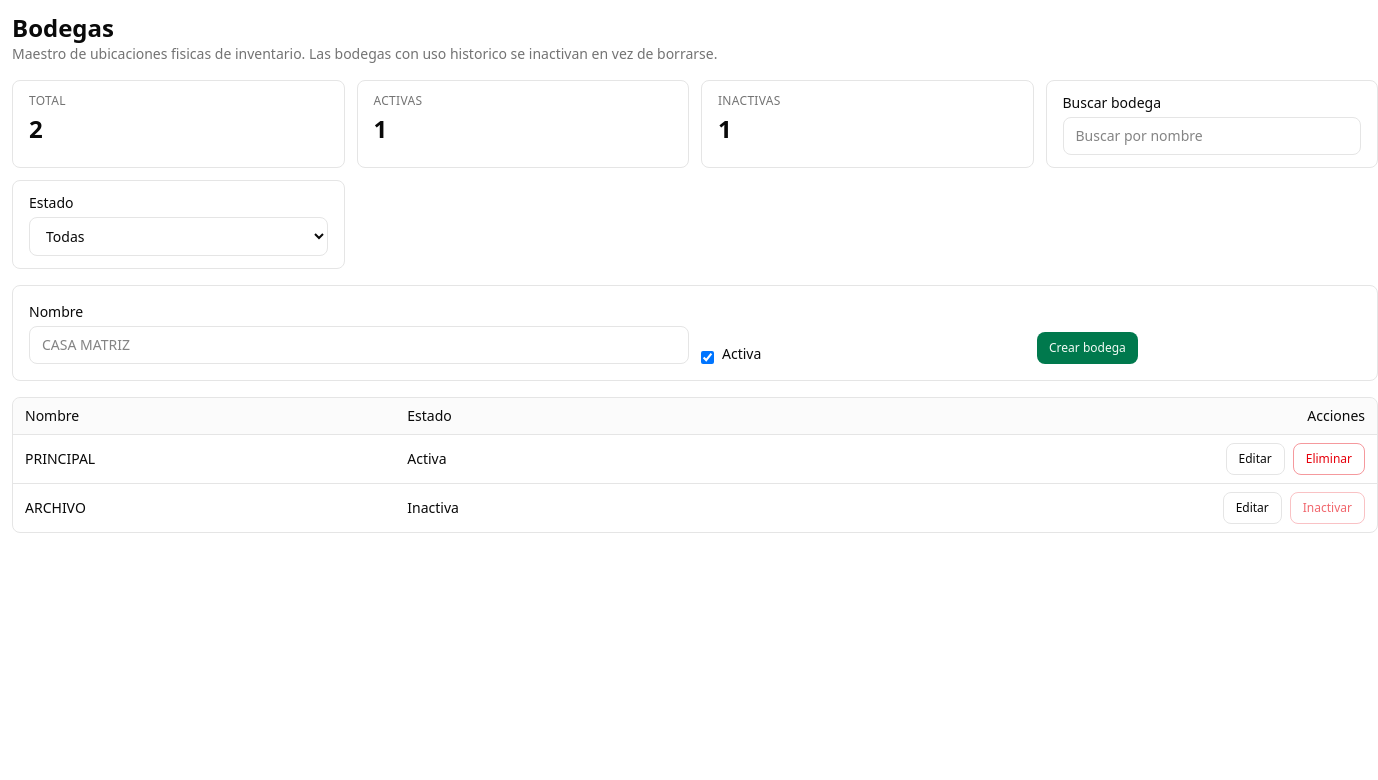
Scenario: inventario/InventarioBodegasPage › filtra bodegas por estado
The image size is (1378, 780).
Expected: the text "PRINCIPAL" is shown, [13,434,395,484]
Expected: the text "ARCHIVO" is shown, [13,484,395,532]
Select "Inactivas" in the dropdown labelled "Estado": (178, 236) [29,217,328,256]
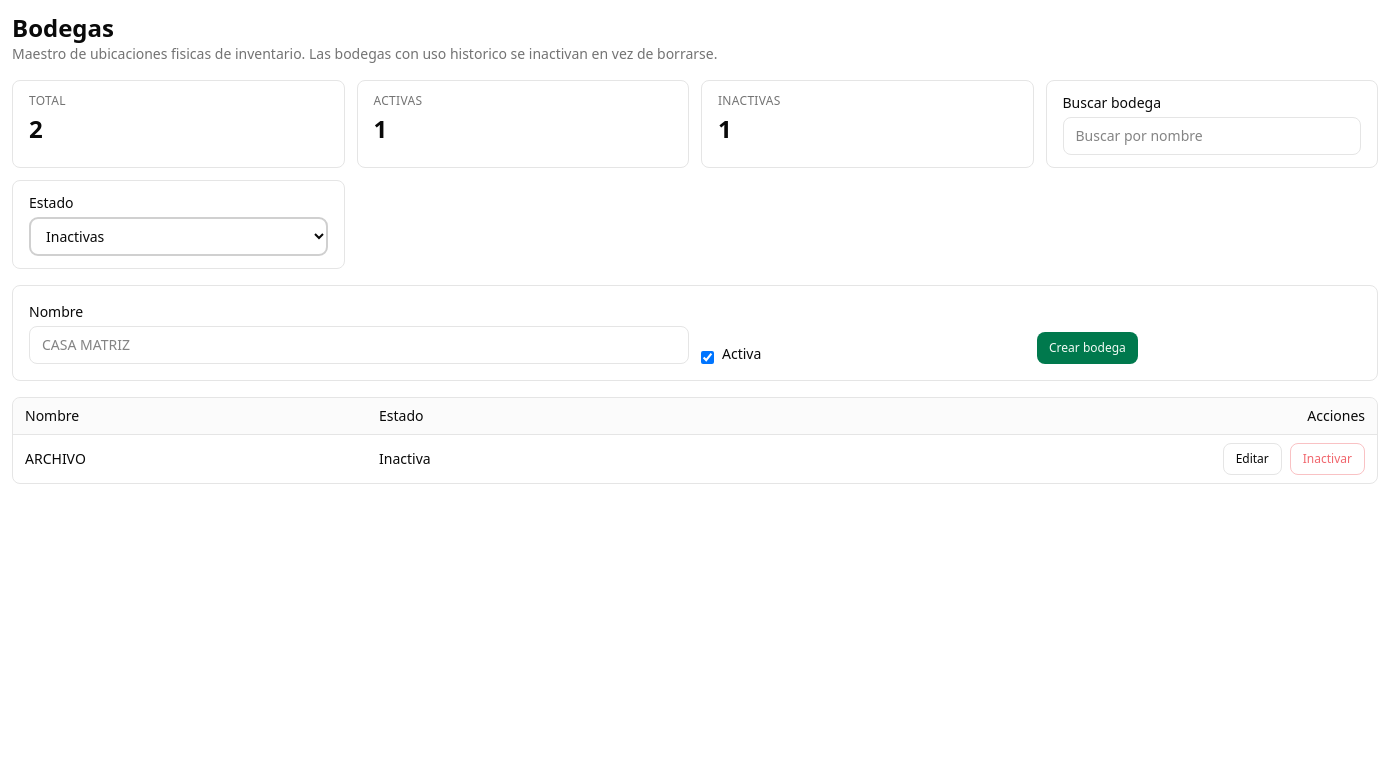
Expected: the text "ARCHIVO" is shown, [13,434,367,483]
Result: the text "PRINCIPAL" is gone
